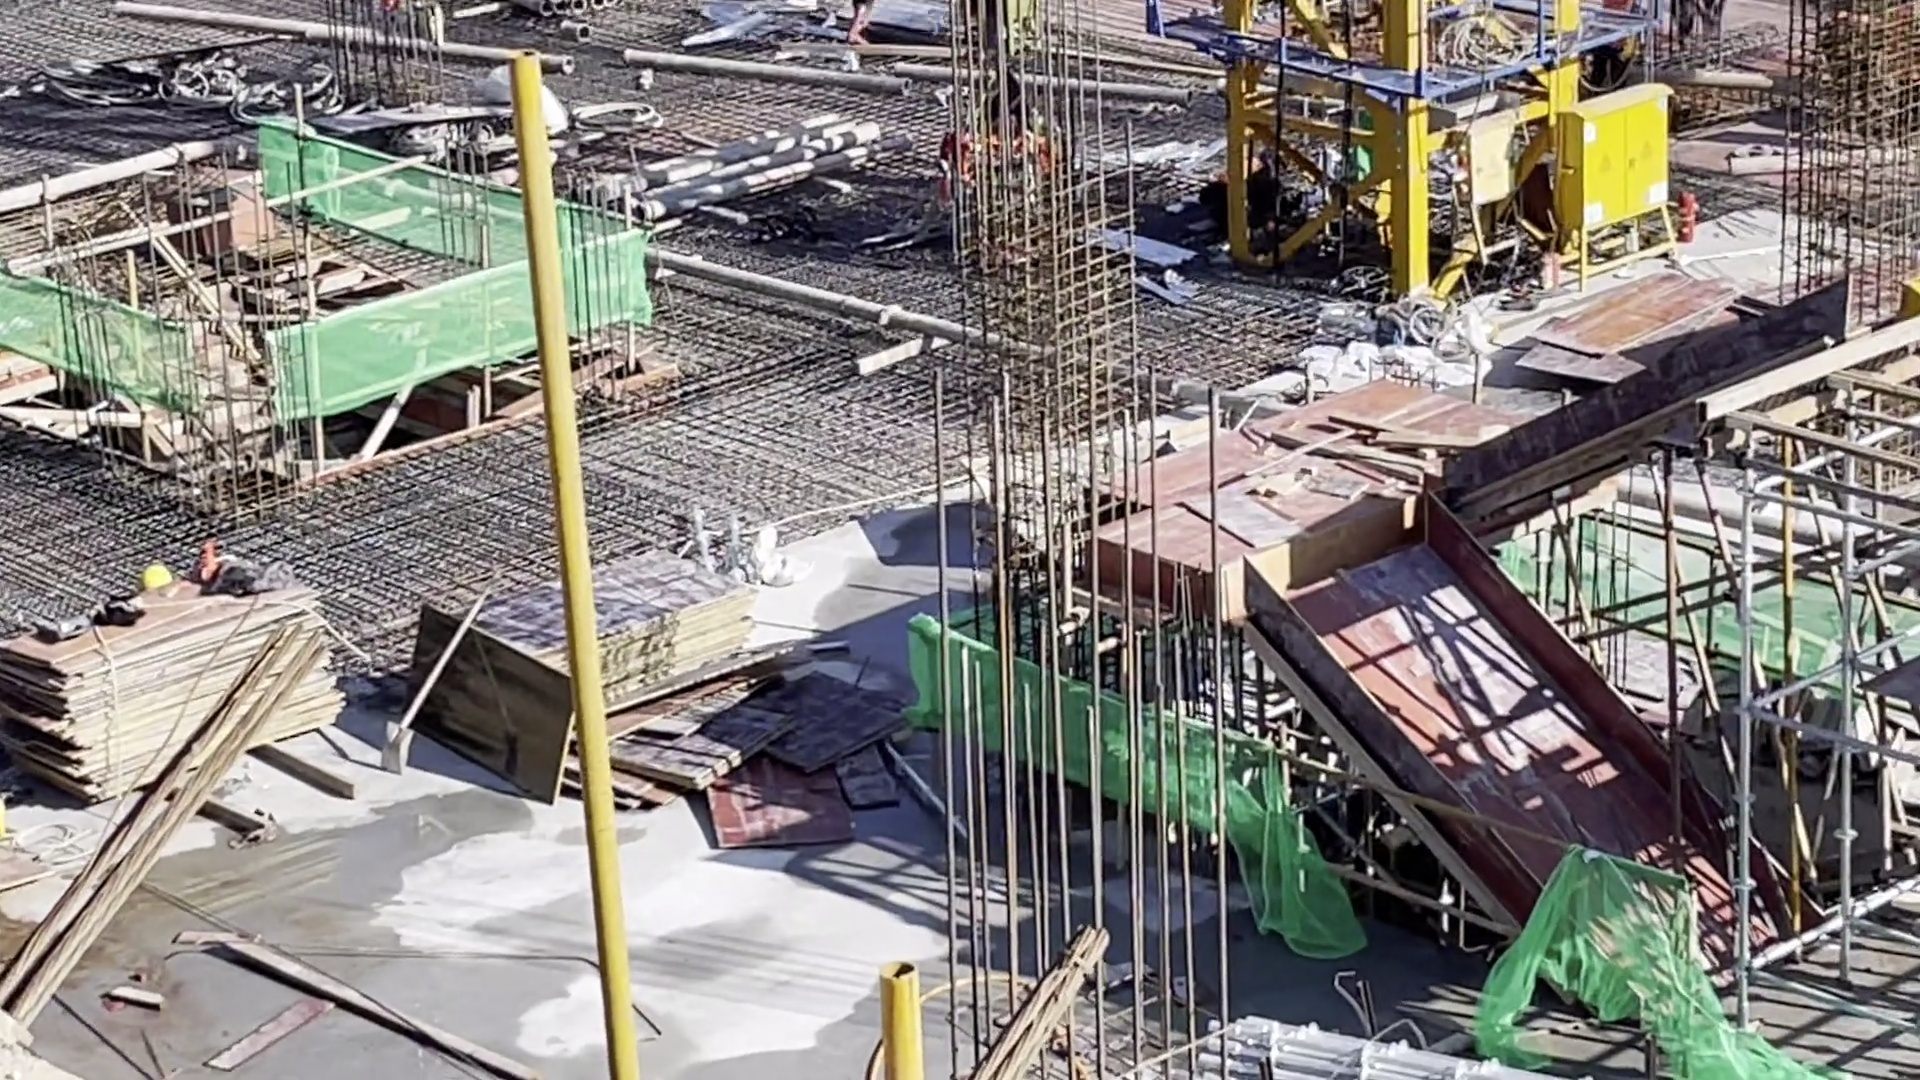board: (15, 564, 344, 812), (462, 539, 758, 721)
ebox: (1552, 79, 1683, 286)
helmet: (138, 564, 173, 589)
